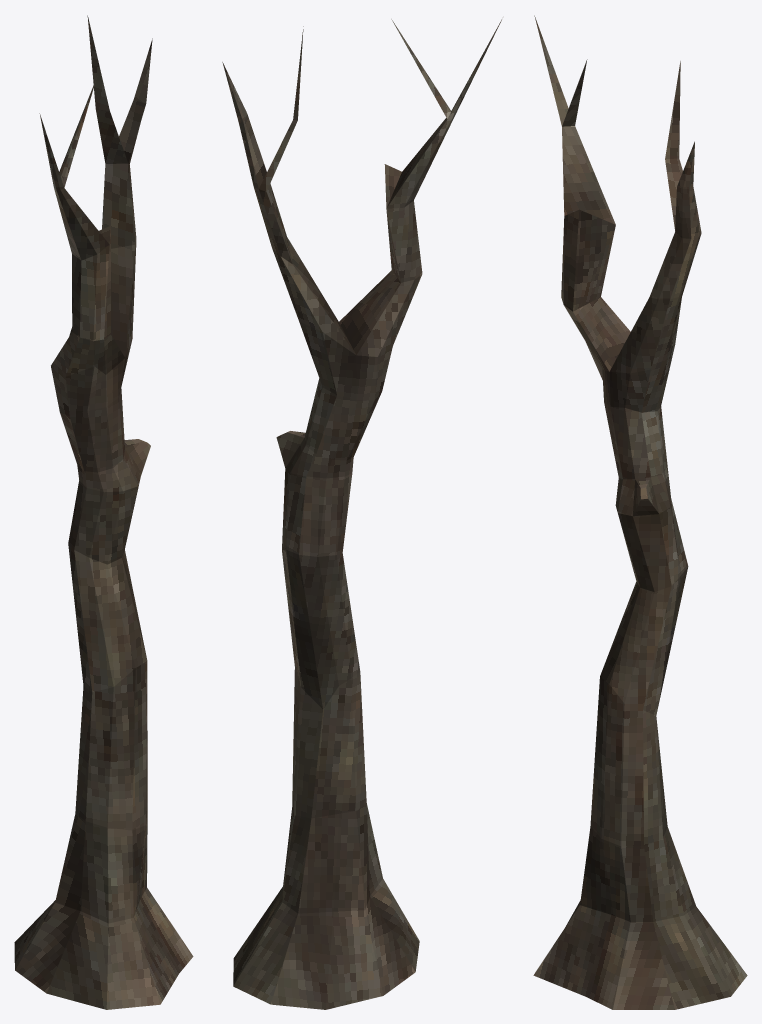
Rendered from cleanDead.glb.
3 renders of one model, left to right at view 1: azimuth 30°, elevation 25°; view 2: azimuth 150°, elevation 25°; view 3: azimuth 270°, elevation 25°, orthographic. The views are drawn at different scales.
Visible parts, largest first — view 1: DeadTree; view 2: DeadTree; view 3: DeadTree.
Part boxes in pixels (<box>): DeadTree: <box>14,15,193,1009</box>; DeadTree: <box>222,19,501,1009</box>; DeadTree: <box>533,15,747,1009</box>.
Bounding box in the file's own units: 2.11 × 9.65 × 2.04.
Materials: 1 (1 with a texture image).
